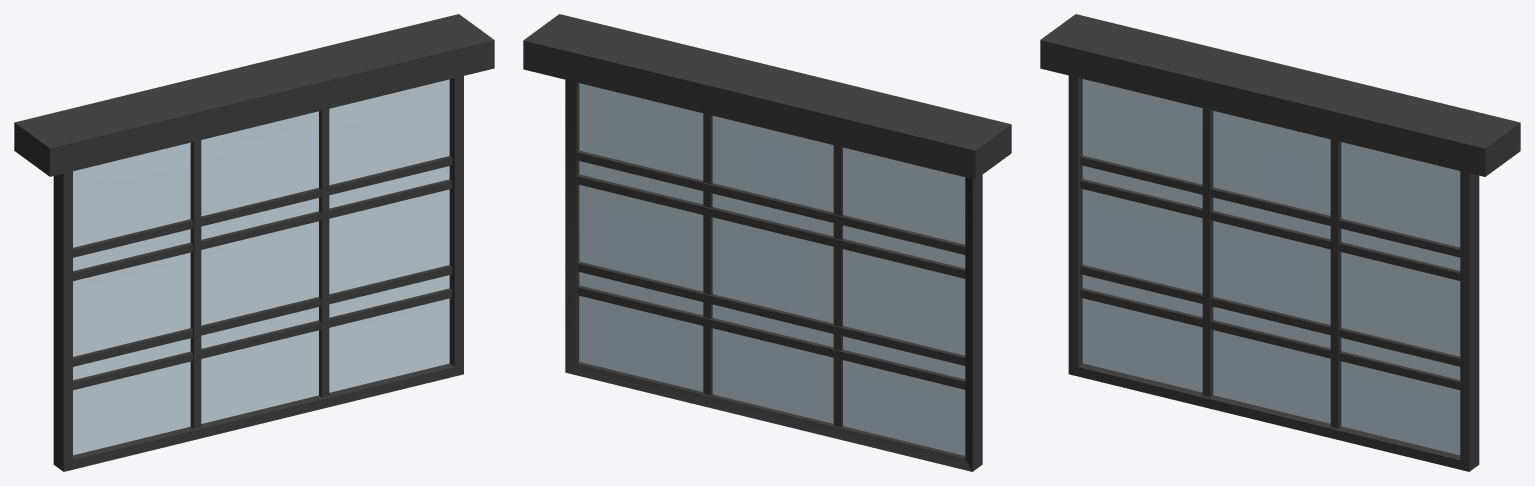
The model's file is window_026.glb.
The picture shows the model from 3 angles, left to right: view 1: azimuth 30°, elevation 25°; view 2: azimuth 150°, elevation 25°; view 3: azimuth 330°, elevation 25°; orthographic projection.
Parts seen in each view (by area): view 1: window_026; view 2: window_026; view 3: window_026.
Part boxes in pixels (x1=…): window_026: x1=14, y1=14, x2=494, y2=471; window_026: x1=523, y1=14, x2=1011, y2=471; window_026: x1=1040, y1=14, x2=1520, y2=471.
Bounding box in the file's own units: 3.43 × 2.46 × 0.4746.
Materials: 1 (1 with a texture image).
